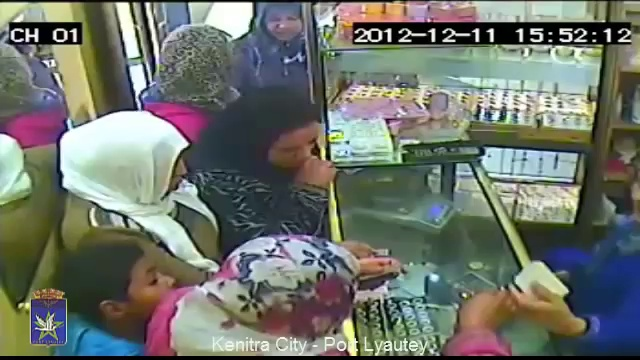face: (262, 124, 322, 172), (124, 262, 176, 299), (263, 8, 305, 39)
